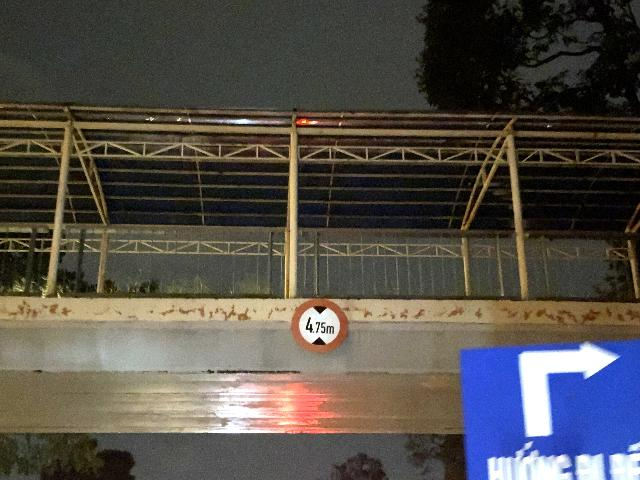han-che-chieu-cao: (290, 298, 349, 354)
